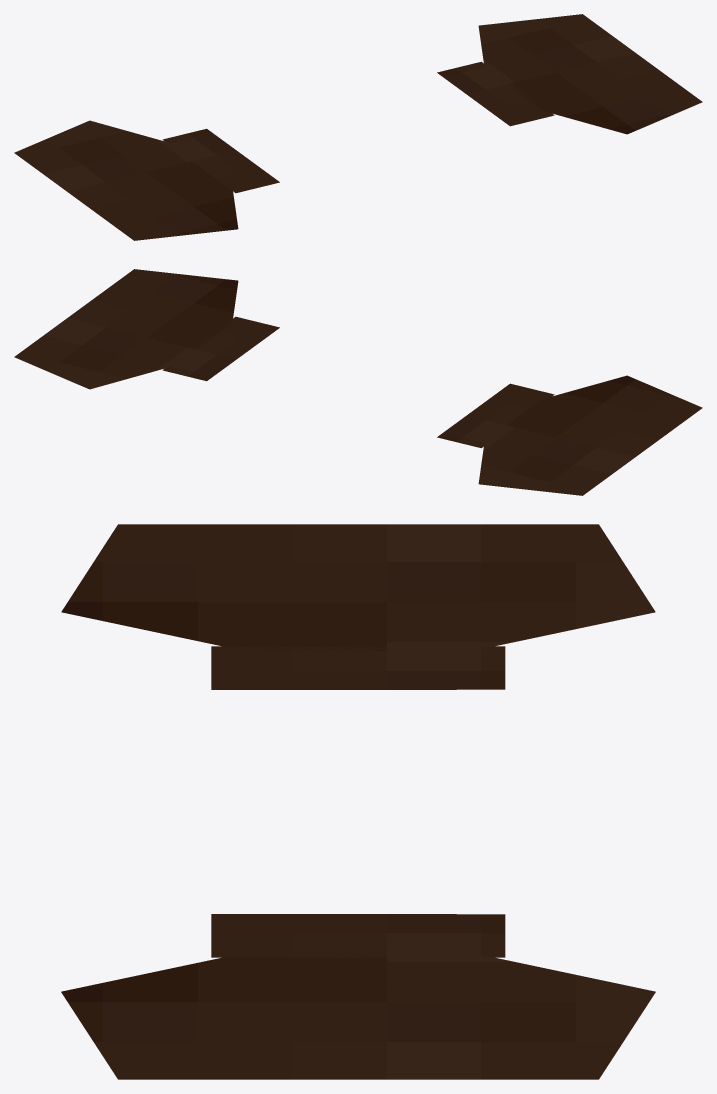
File: spanish_archA_footprint.fbx
3 renders of one model, top to bottom at view 1: azimuth 30°, elevation 25°; view 2: azimuth 150°, elevation 25°; view 3: azimuth 270°, elevation 25°, orthographic. The views are drawn at different scales.
Parts seen in each view (by area): view 1: footprint; view 2: footprint; view 3: footprint.
Part boxes in pixels (<box>): footprint: <box>14,14,702,240</box>; footprint: <box>14,269,702,495</box>; footprint: <box>61,524,655,1079</box>.
Bounding box in the file's own units: 2300 × 0.00017 × 1042.
Materials: 1 (1 with a texture image).
